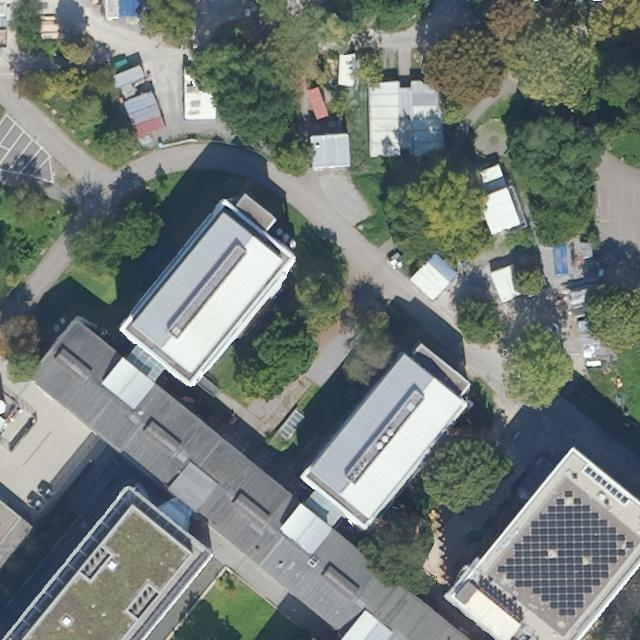PV: (495, 487, 637, 619), (582, 464, 631, 507)
